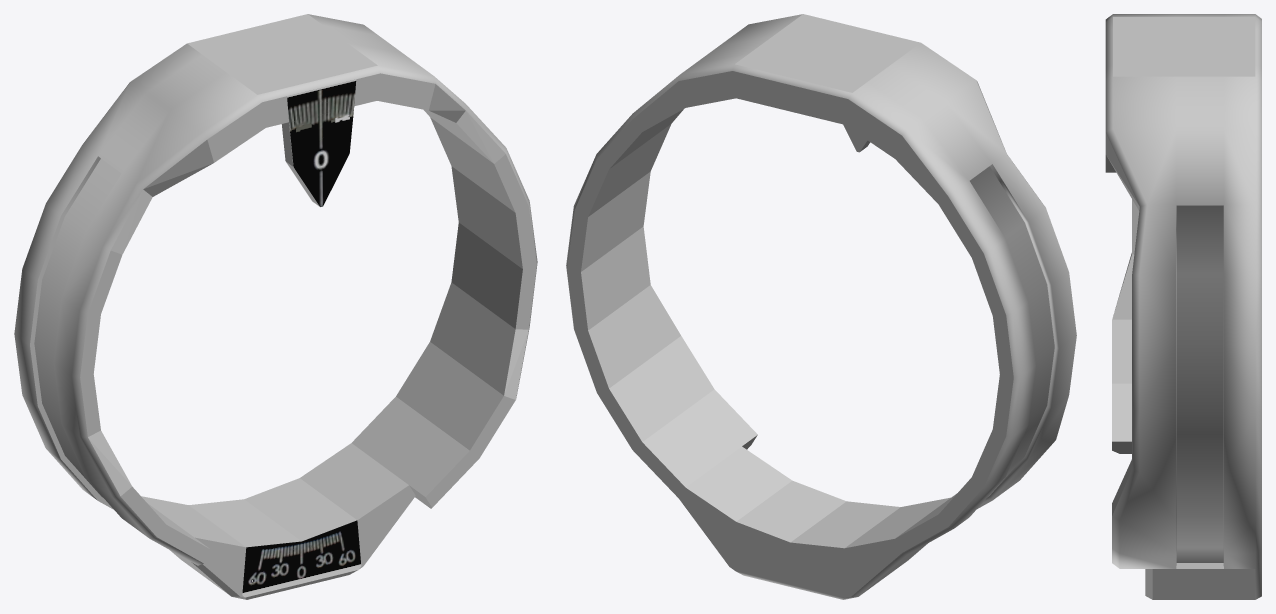
Rendered from RSP1Mount.fbx.
3 views of the same model, side by side, from view 1: azimuth 30°, elevation 25°; view 2: azimuth 150°, elevation 25°; view 3: azimuth 270°, elevation 25° (orthographic). The views are drawn at different scales.
Parts seen in each view (by area): view 1: RSP1Mount; view 2: RSP1Mount; view 3: RSP1Mount.
Boxes of the visible parts, bbox=[...] form: RSP1Mount: bbox=[14, 14, 537, 599]; RSP1Mount: bbox=[566, 14, 1076, 599]; RSP1Mount: bbox=[1105, 14, 1261, 599].
Bounding box in the file's own units: 5.02 × 5.37 × 1.45.
